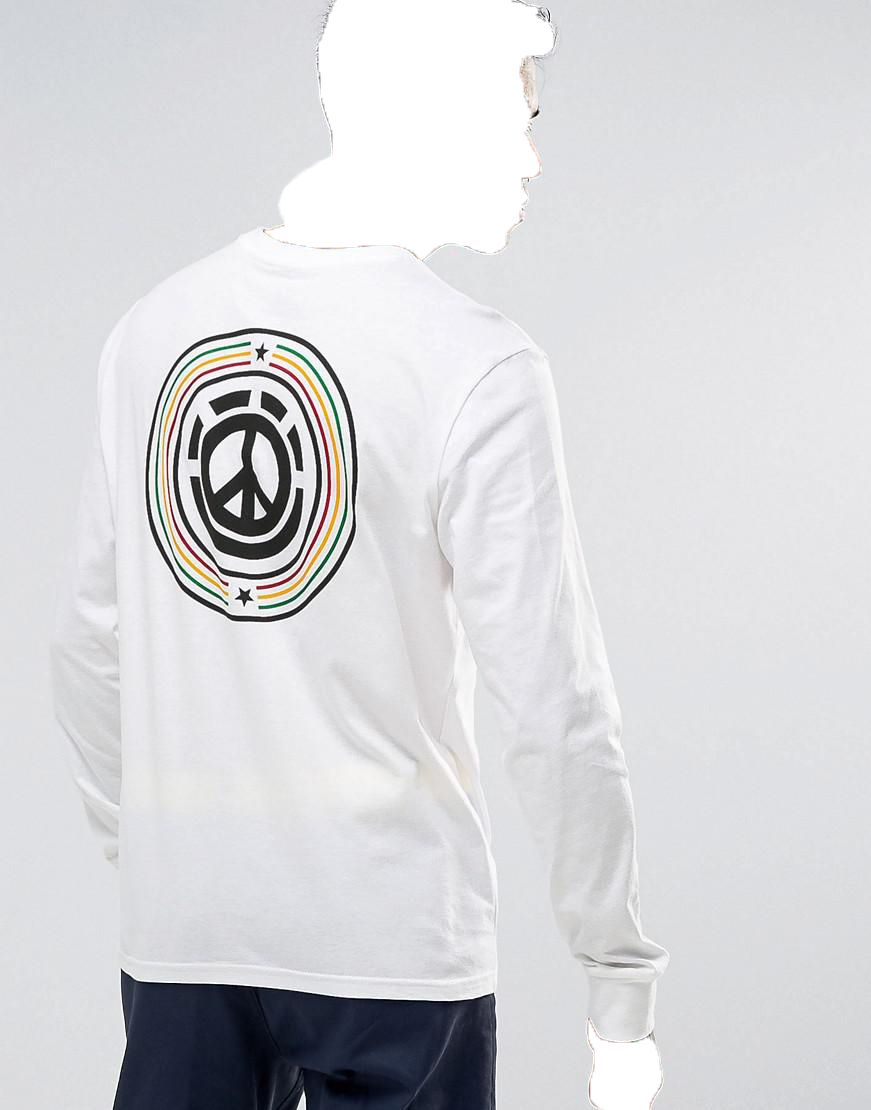teeshirt: (44, 239, 681, 1030)
